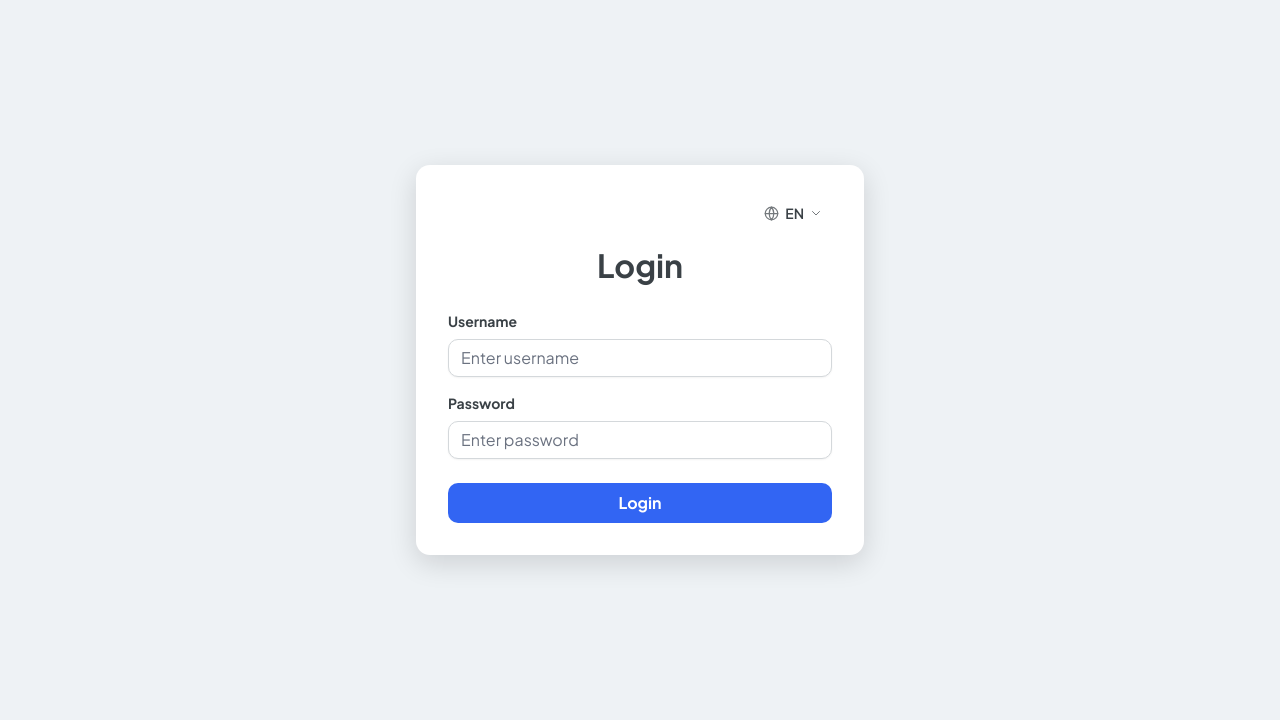
it: Login Page › displays generic error message when no specific error provided
Type "testuser" into the field labelled "Username".
click(640, 358); type("testuser")  # box [448,339,832,377]
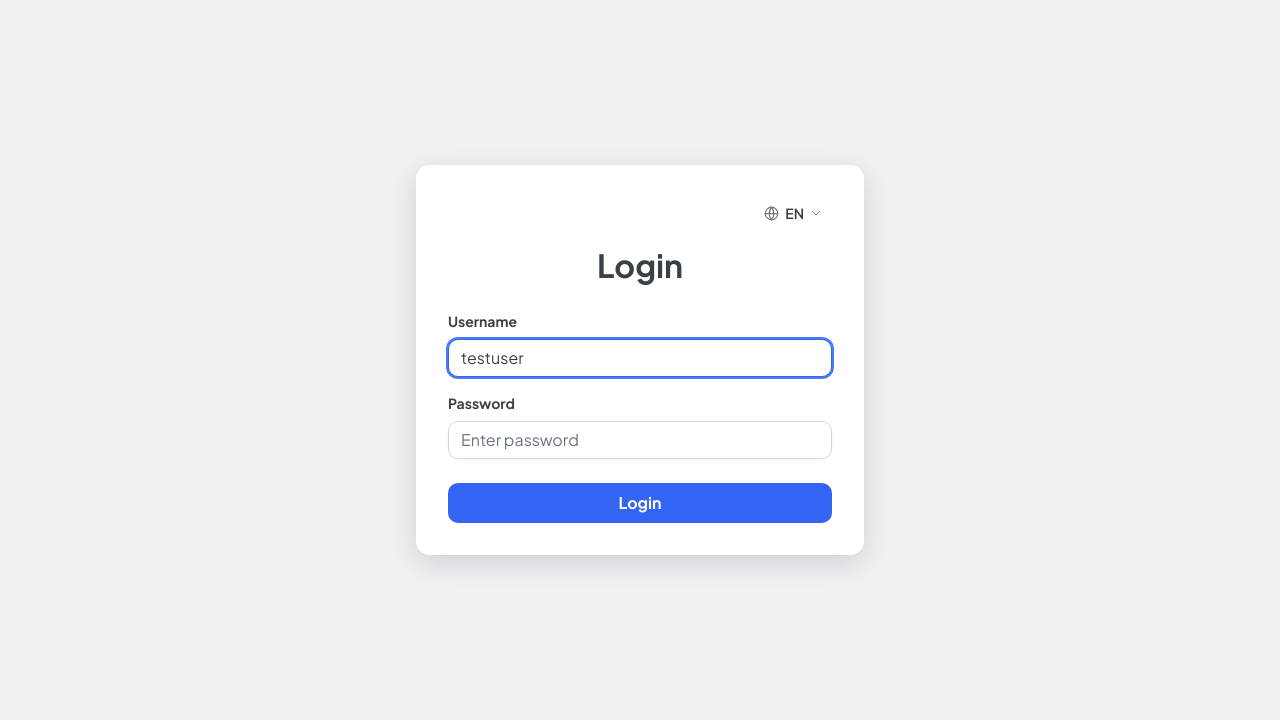
Type "testpass123" into the password field labelled "Password".
click(640, 440); type("testpass123")  # box [448,421,832,459]
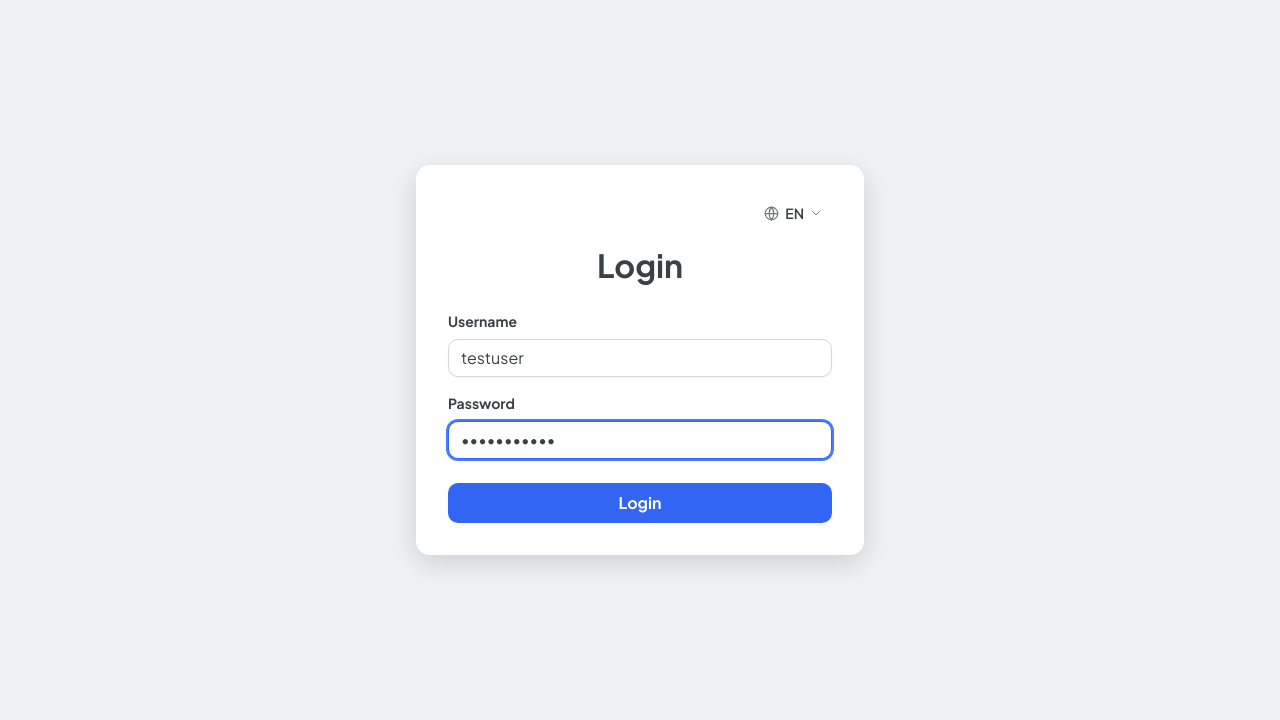
Click the button "Login".
click(640, 503)  # box [448,483,832,523]
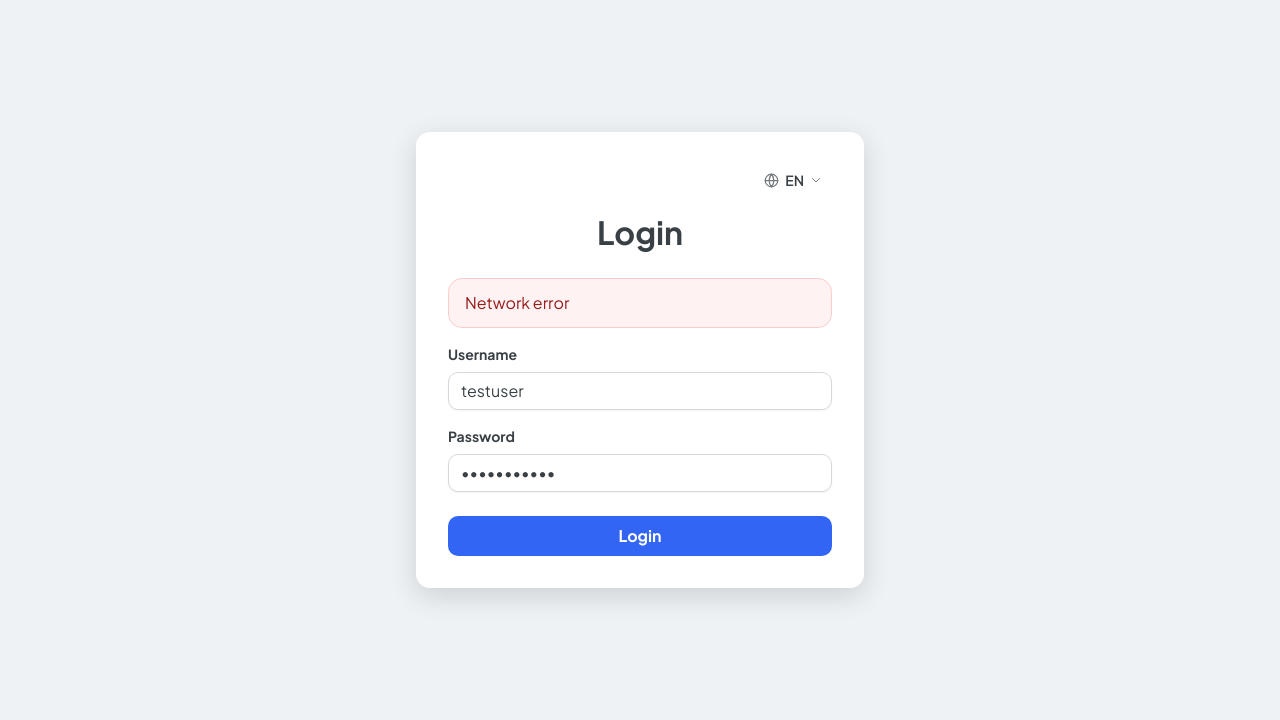
Expected: the text "Network error" is shown, [448,278,832,328]
